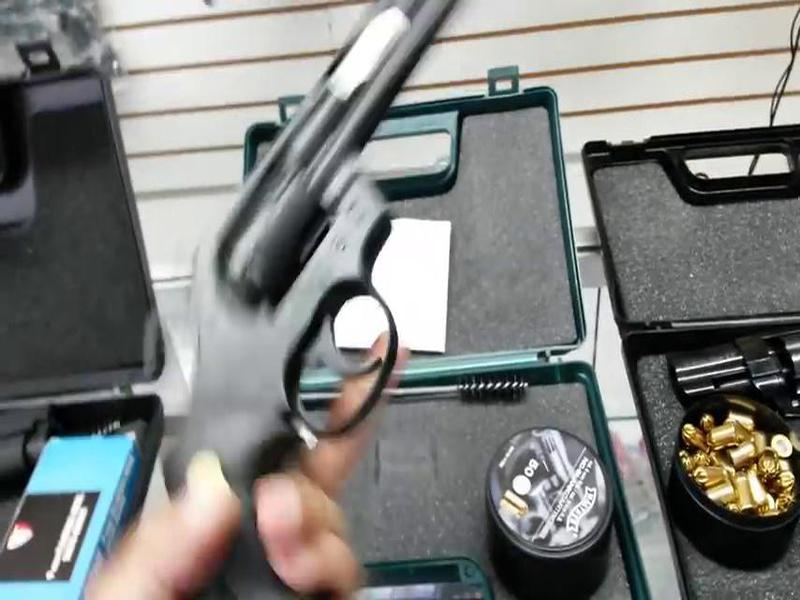Revolver: (183, 1, 498, 597)
